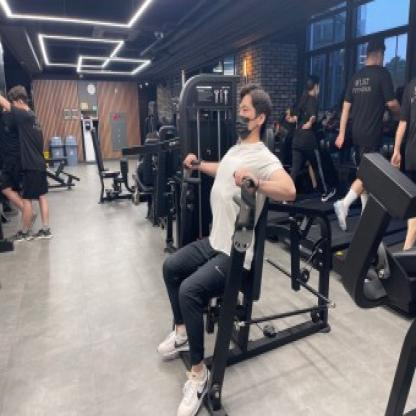Chest Press machine: (174, 73, 333, 416)
